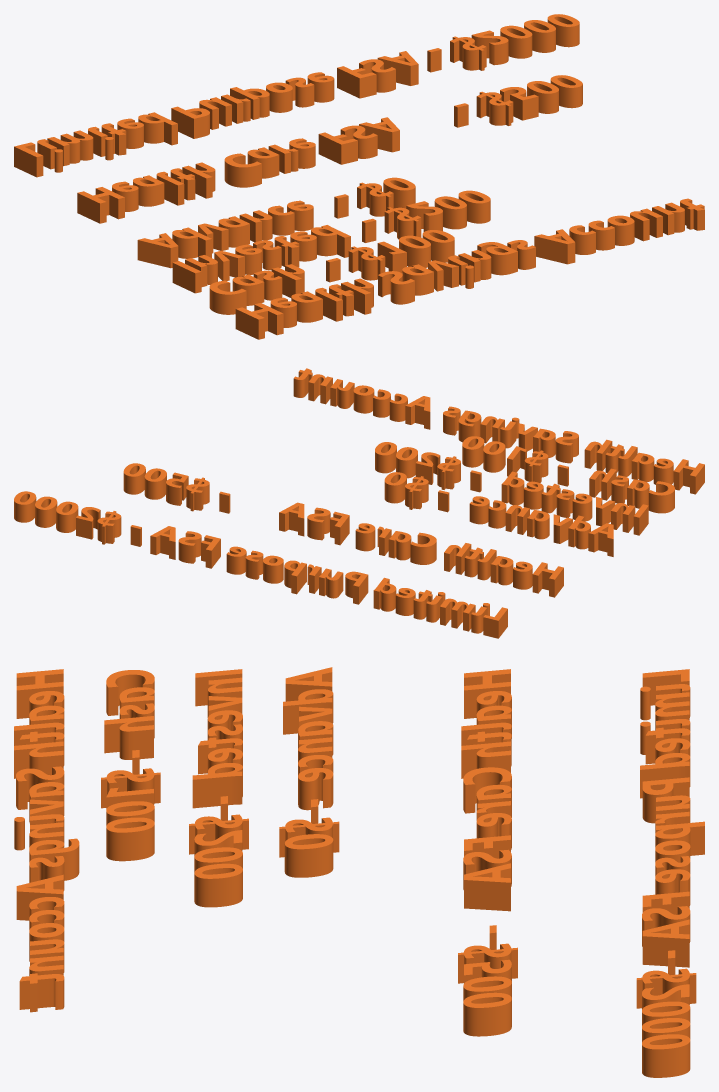
File: textthree.fbx
3 renders of one model, top to bottom at view 1: azimuth 30°, elevation 25°; view 2: azimuth 150°, elevation 25°; view 3: azimuth 270°, elevation 25°, orthographic. The views are drawn at different scales.
Visible parts, largest first — view 1: node_id53 (×6); view 2: node_id53 (×6); view 3: node_id53 (×6).
Part boxes in pixels (x1,y1,x2,y2): node_id53 (×6): (14,14,704,339); node_id53 (×6): (14,368,704,638); node_id53 (×6): (14,667,704,1077).
Bounding box in the file's own units: 0.4308 × 0.015 × 0.329.
